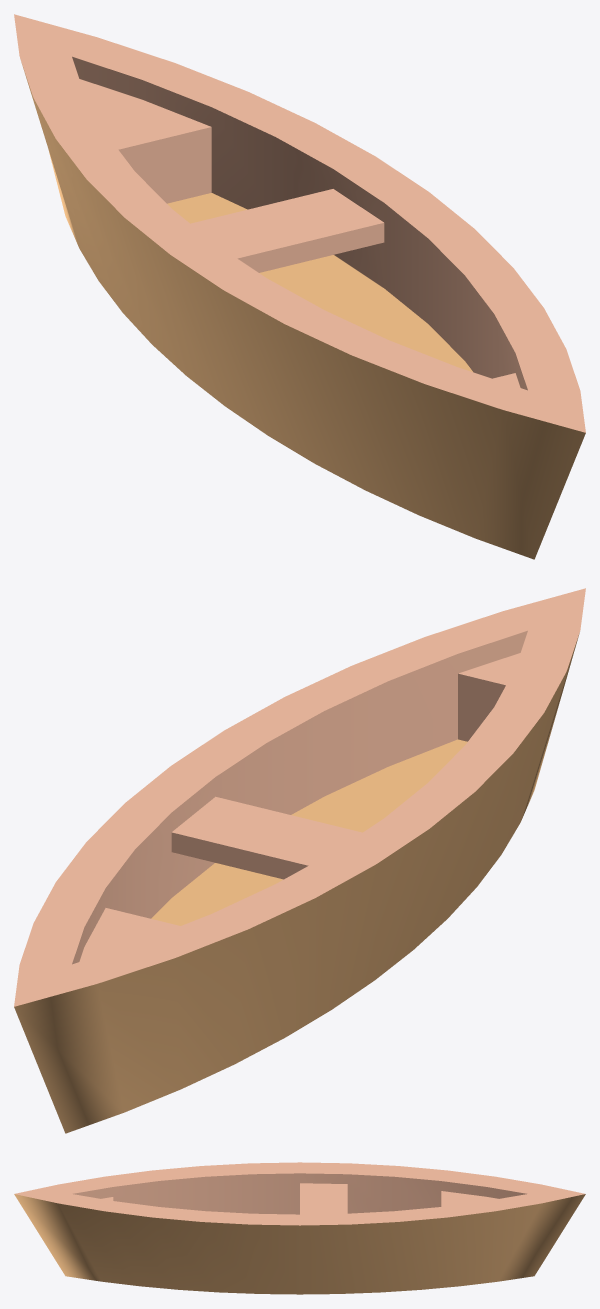
File: canoe.glb
3 renders of one model, top to bottom at view 1: azimuth 30°, elevation 25°; view 2: azimuth 150°, elevation 25°; view 3: azimuth 270°, elevation 25°, orthographic. The views are drawn at different scales.
Visible parts, largest first — view 1: canoe; view 2: canoe; view 3: canoe.
Boxes of the visible parts, x1=… form: canoe: x1=14, y1=14, x2=585, y2=559; canoe: x1=14, y1=588, x2=585, y2=1133; canoe: x1=14, y1=1162, x2=585, y2=1294.
Size of the model in its own units: 0.3 by 0.1825 by 1.15.
1 material, 1 textured.
